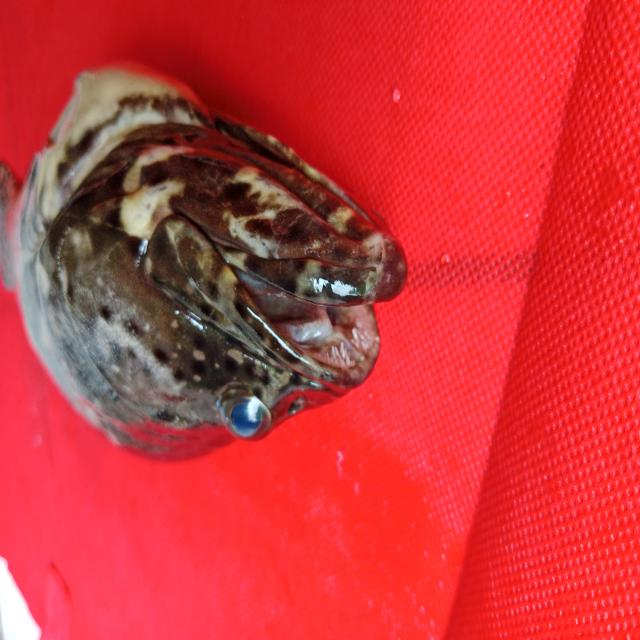ikan: (19, 47, 420, 489)
